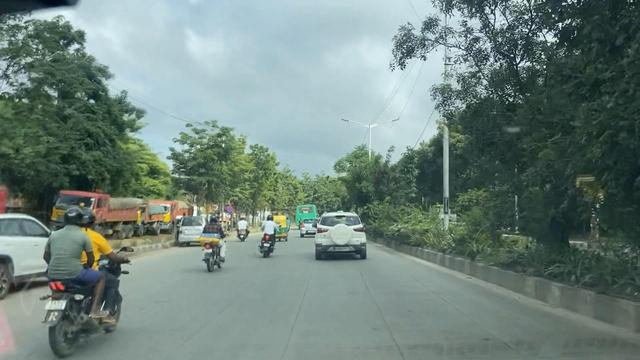LMV: (39, 203, 145, 358), (309, 207, 373, 266), (245, 184, 282, 275), (196, 207, 234, 274)
